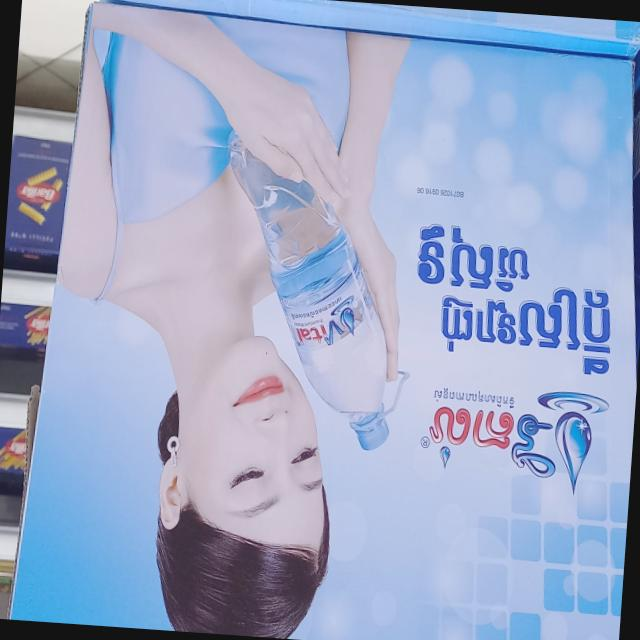382: (416, 185, 460, 198)
Yolov11kh: (433, 275, 613, 380), (411, 399, 560, 497), (412, 219, 534, 296), (428, 383, 517, 412), (287, 291, 344, 328)
